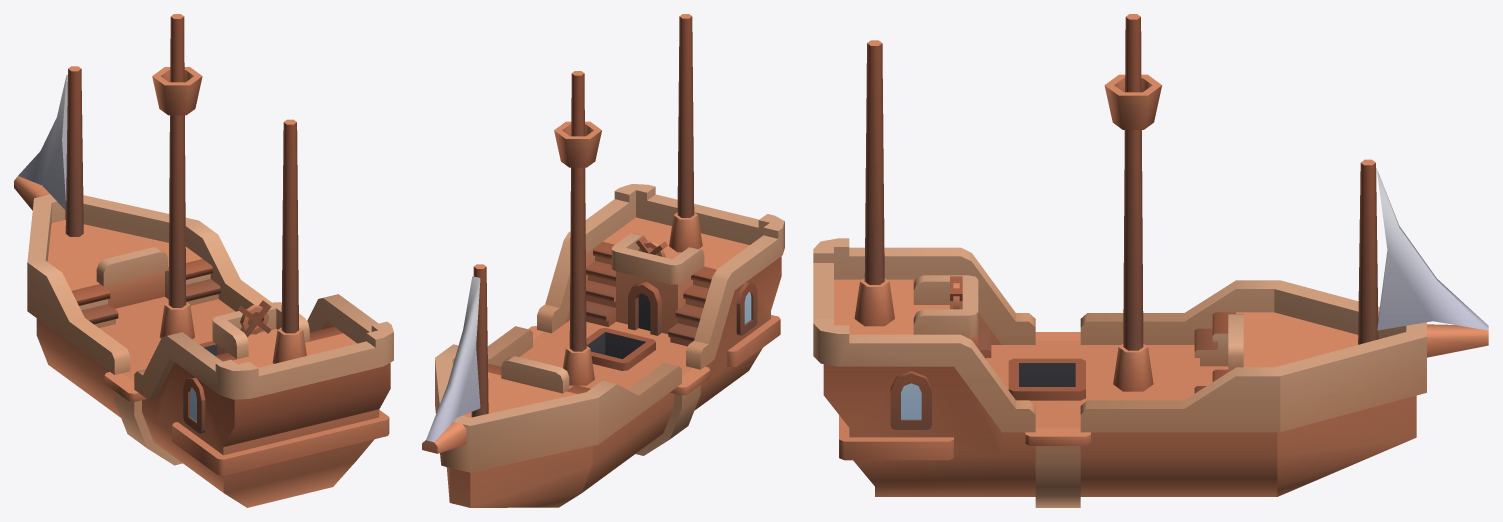
The model's file is carrier.glb.
3 renders of one model, left to right at view 1: azimuth 30°, elevation 25°; view 2: azimuth 150°, elevation 25°; view 3: azimuth 270°, elevation 25°, orthographic. The views are drawn at different scales.
Parts seen in each view (by area): view 1: carrier; view 2: carrier; view 3: carrier.
Part boxes in pixels (box(x1,y1,x2,y2)): carrier: box(14, 14, 393, 507); carrier: box(422, 14, 784, 507); carrier: box(813, 14, 1488, 507).
Bounding box in the file's own units: 1.27 × 2.64 × 3.47.
1 material, 1 textured.
